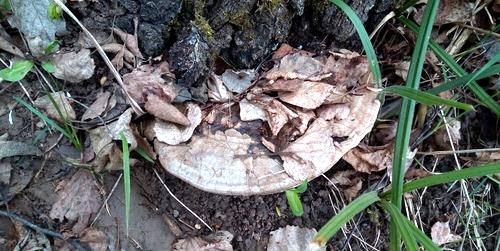Ganoderma - Fruit Body: (142, 70, 387, 201)
